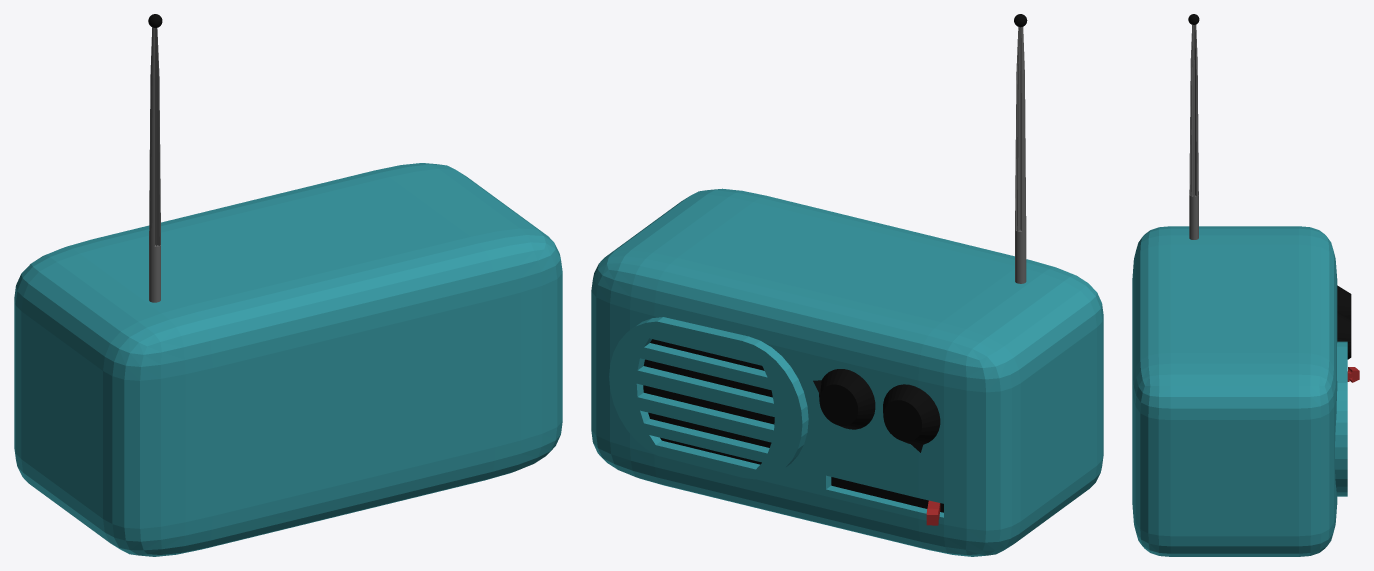
The model's file is Radio.fbx.
3 views of the same model, side by side, from view 1: azimuth 30°, elevation 25°; view 2: azimuth 150°, elevation 25°; view 3: azimuth 270°, elevation 25° (orthographic). The views are drawn at different scales.
Visible parts, largest first — view 1: RetroRadio_Cylinder_001; view 2: RetroRadio_Cylinder_001; view 3: RetroRadio_Cylinder_001.
Part boxes in pixels (left/top/right/bottom): RetroRadio_Cylinder_001: left=14, top=14, right=562, bottom=556; RetroRadio_Cylinder_001: left=591, top=14, right=1103, bottom=556; RetroRadio_Cylinder_001: left=1132, top=14, right=1359, bottom=556.
Size of the model in its own units: 4 by 4.41 by 2.22.
